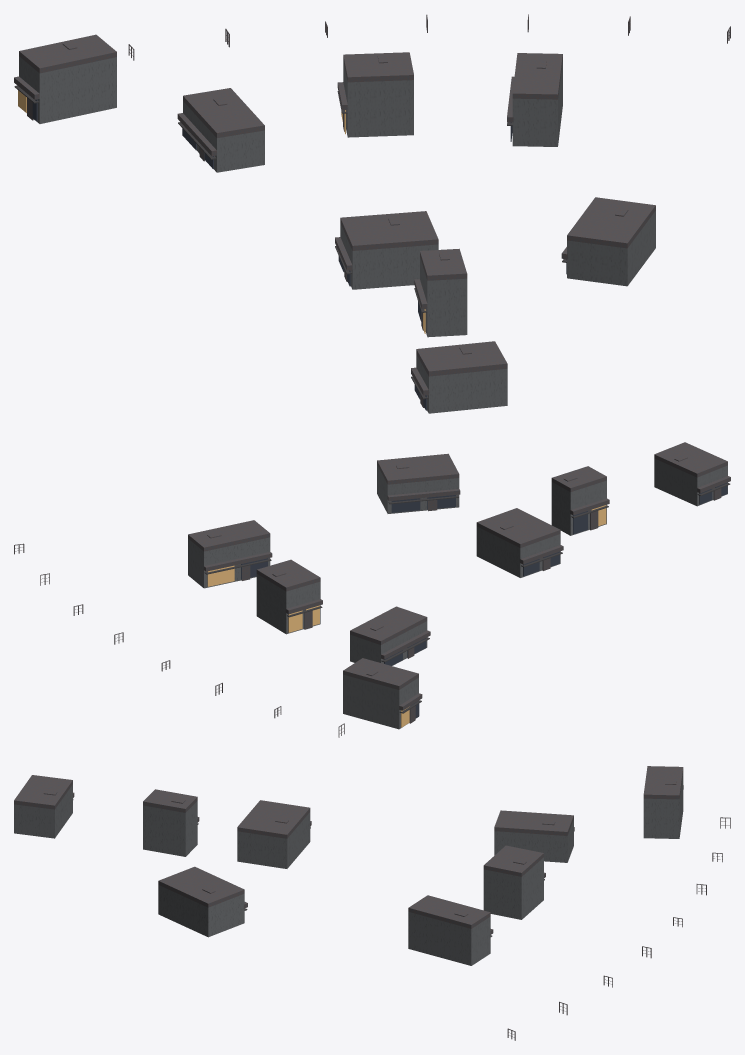
Rendered from SM_City_AlHilal_1.fbx.
The picture shows the model from 3 angles, top to bottom: view 1: azimuth 30°, elevation 25°; view 2: azimuth 150°, elevation 25°; view 3: azimuth 270°, elevation 25°; orthographic projection. The views are drawn at different scales.
Visible parts, largest first — view 1: SM_City_AlHilal_1; view 2: SM_City_AlHilal_1; view 3: SM_City_AlHilal_1.
Part boxes in pixels (x1,y1,x2,y2): SM_City_AlHilal_1: (14, 14, 730, 413); SM_City_AlHilal_1: (14, 442, 730, 737); SM_City_AlHilal_1: (14, 766, 730, 1040).
Size of the model in its own units: 6313 by 612 by 8147.
5 materials, 5 textured.
